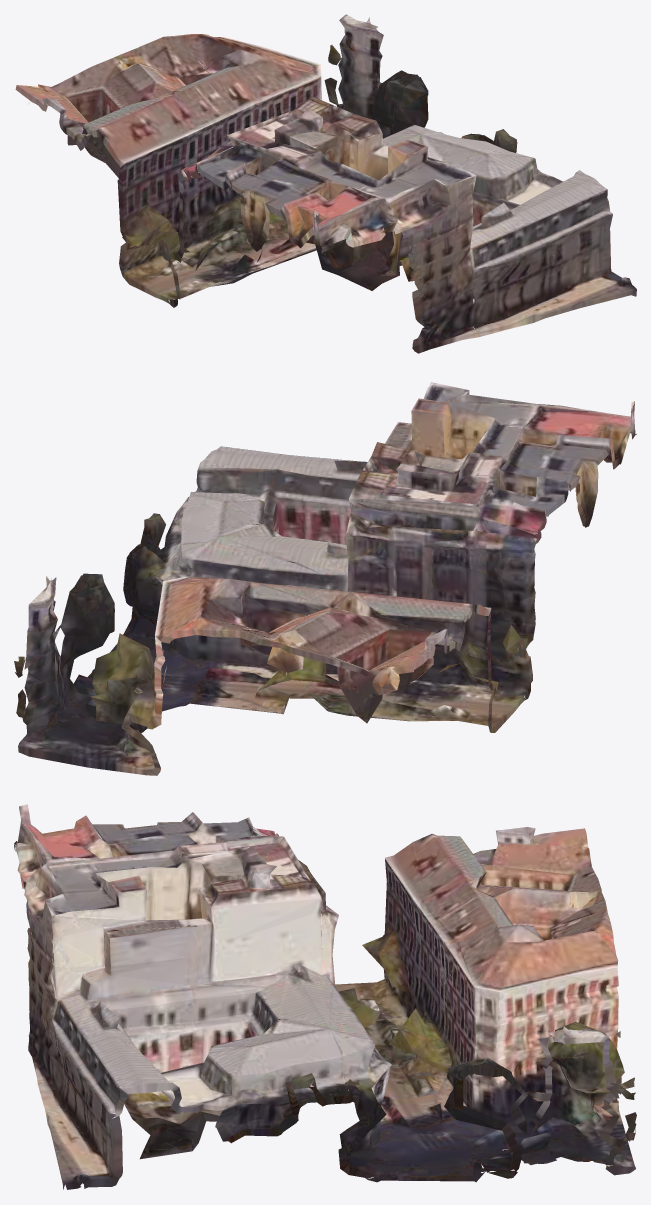
3 renders of one model, top to bottom at view 1: azimuth 30°, elevation 25°; view 2: azimuth 150°, elevation 25°; view 3: azimuth 270°, elevation 25°, orthographic. The views are drawn at different scales.
Parts seen in each view (by area): view 1: Mesh_0; view 2: Mesh_0; view 3: Mesh_0.
Boxes of the visible parts, <box> form: Mesh_0: <box>15,14,636,353</box>; Mesh_0: <box>14,382,636,775</box>; Mesh_0: <box>14,804,636,1189</box>.
Size of the model in its own units: 66.85 by 31.71 by 82.67.
1 material, 1 textured.
